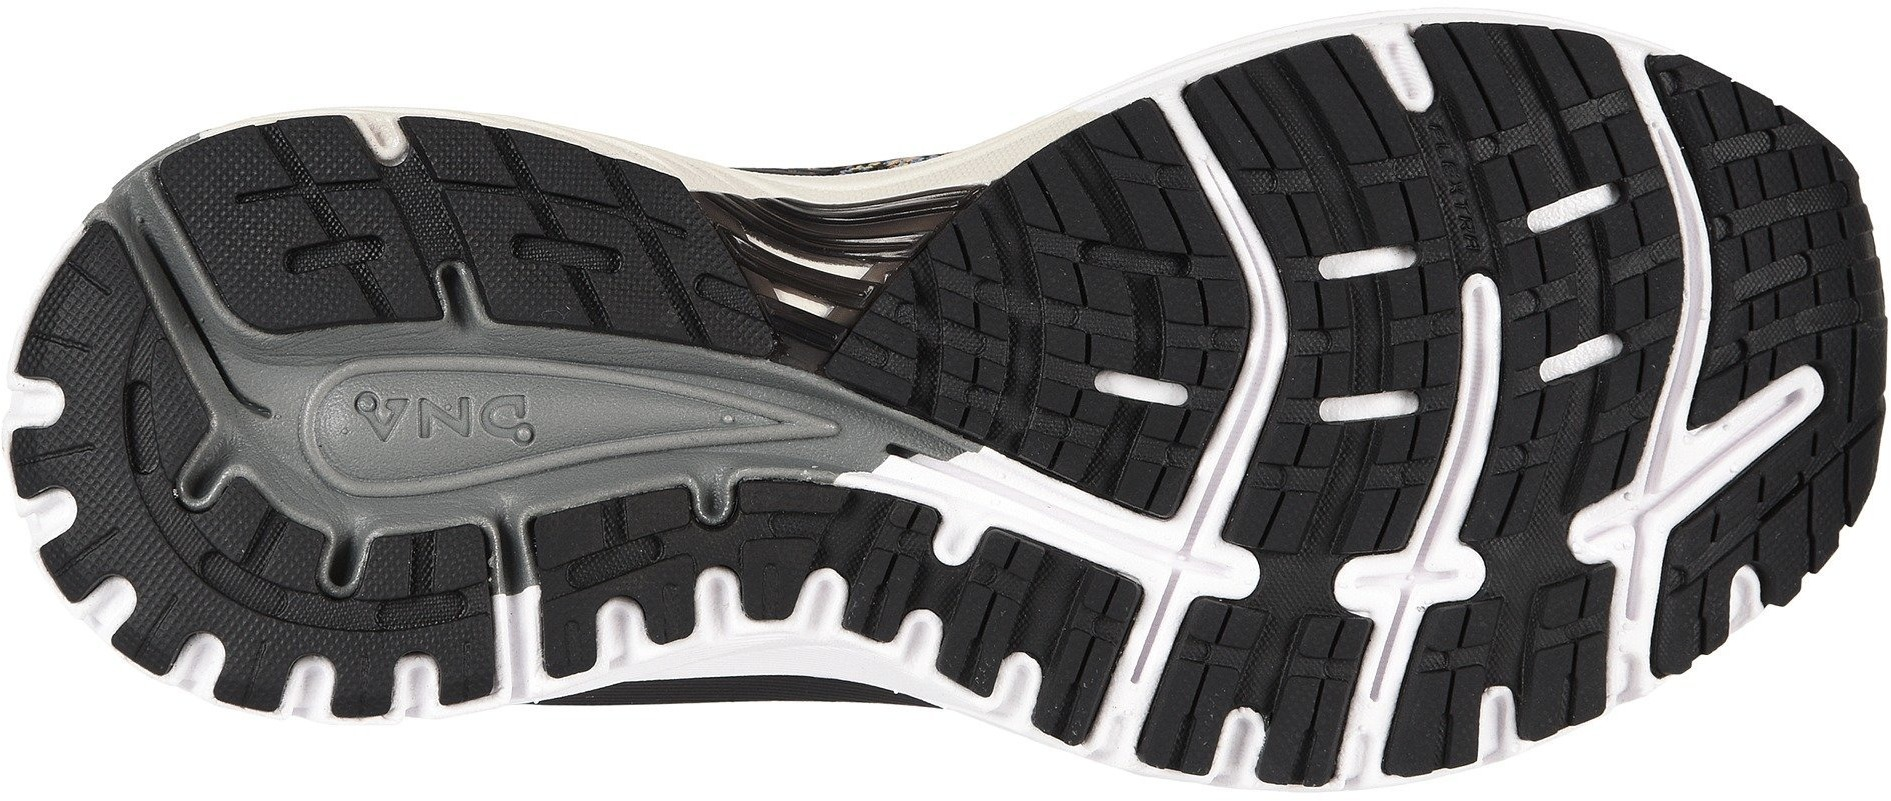quad: (1006, 201, 1210, 380), (1715, 169, 1852, 325)
text: (379, 363, 521, 469)
